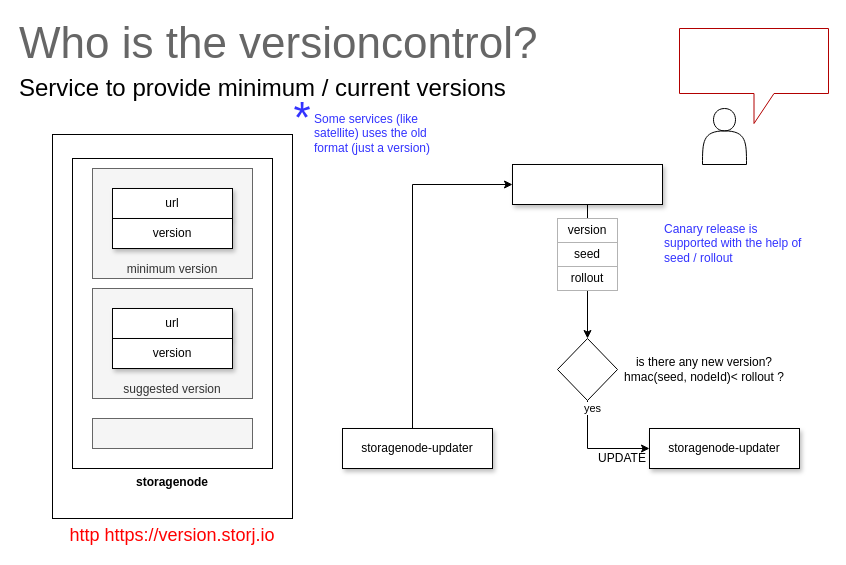
The diagram is 846 pixels wide and 565 high, and some of its shapes have lost their labels. The centre of each missing label's shape, as x and y in pixels:
"It's better to upgrade, now!" goes at point 753,76.
"rollout/seed" goes at point 172,433.
"versioncontrol" goes at point 588,186.
